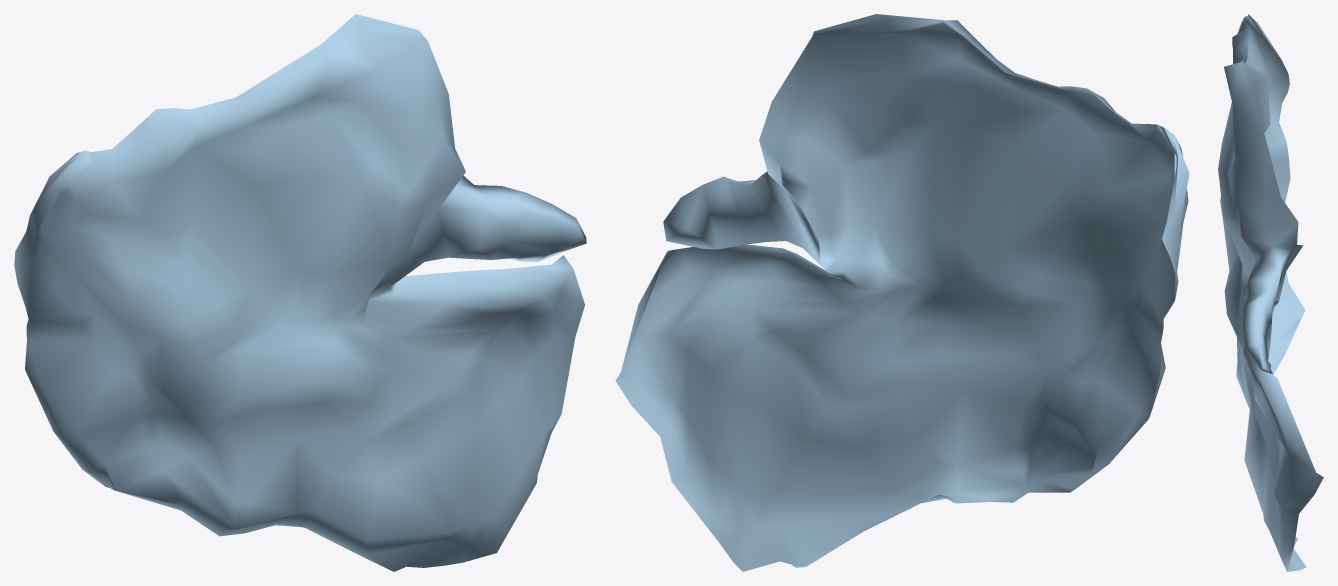
Rendered from RS-4Y_ice00LEFT.fbx.
The picture shows the model from 3 angles, left to right: view 1: azimuth 30°, elevation 25°; view 2: azimuth 150°, elevation 25°; view 3: azimuth 270°, elevation 25°; orthographic projection. The views are drawn at different scales.
Visible parts, largest first — view 1: RS-4Y_ice00LEFT.001; view 2: RS-4Y_ice00LEFT.001; view 3: RS-4Y_ice00LEFT.001.
Boxes of the visible parts, <box> form: RS-4Y_ice00LEFT.001: <box>14,14,586,571</box>; RS-4Y_ice00LEFT.001: <box>615,14,1189,571</box>; RS-4Y_ice00LEFT.001: <box>1218,14,1323,571</box>.
Bounding box in the file's own units: 5808 × 5837 × 1249.
